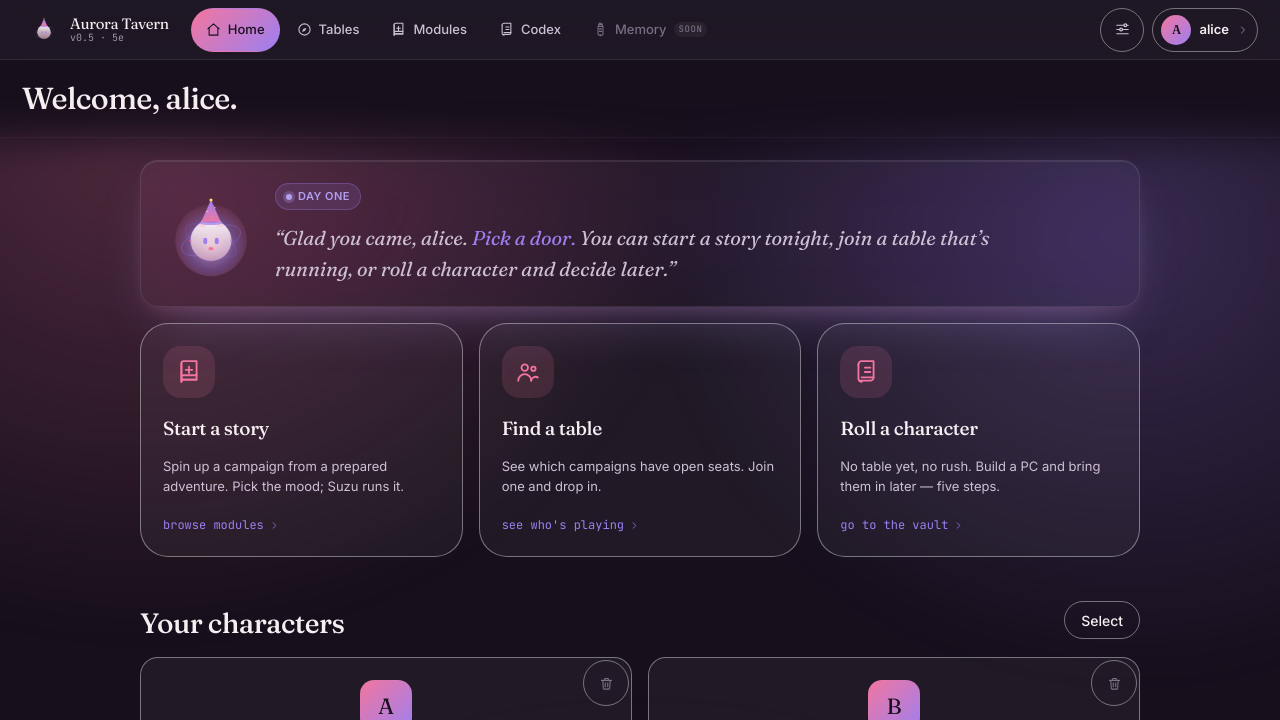
Bulk delete — characters grid, select mode › Undo partial failure surfaces a restored-X-of-Y message
The image size is (1280, 720).
Click the button "Select" at (1102, 620), box [1064,601,1140,639]
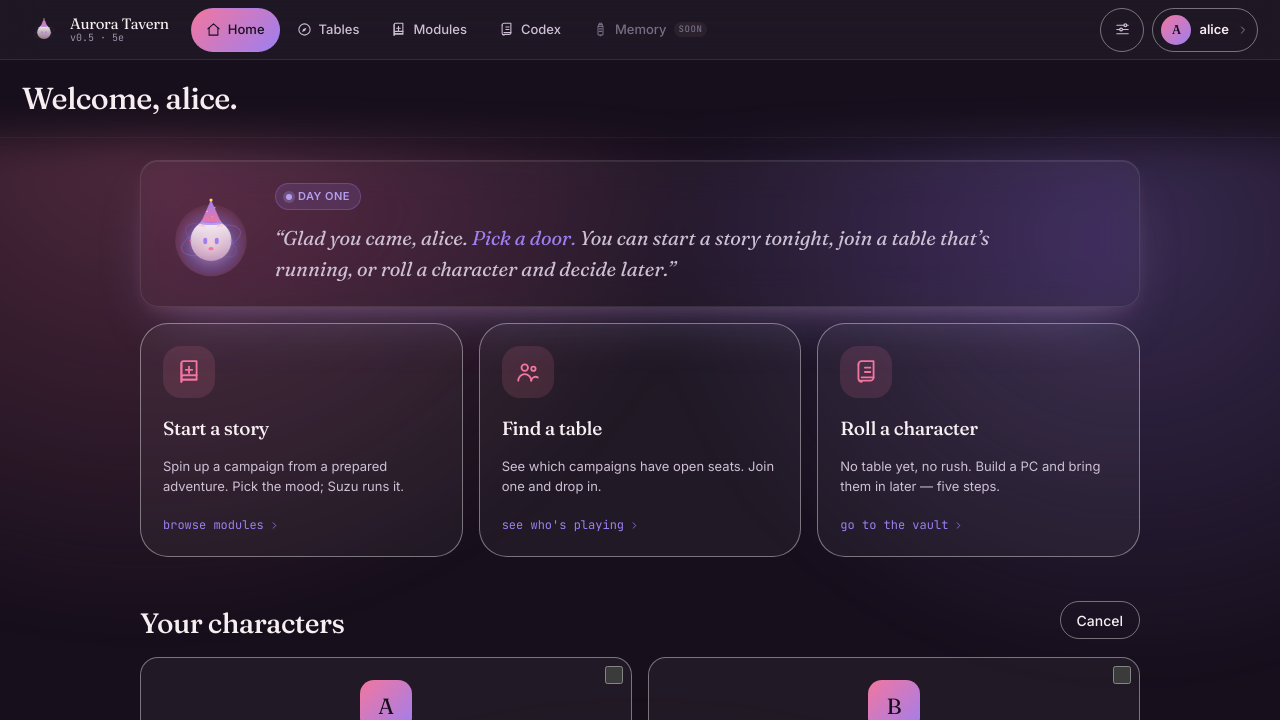
Click the checkbox named "select aria" at (614, 675), box [605,666,623,684]
(page scrolled)
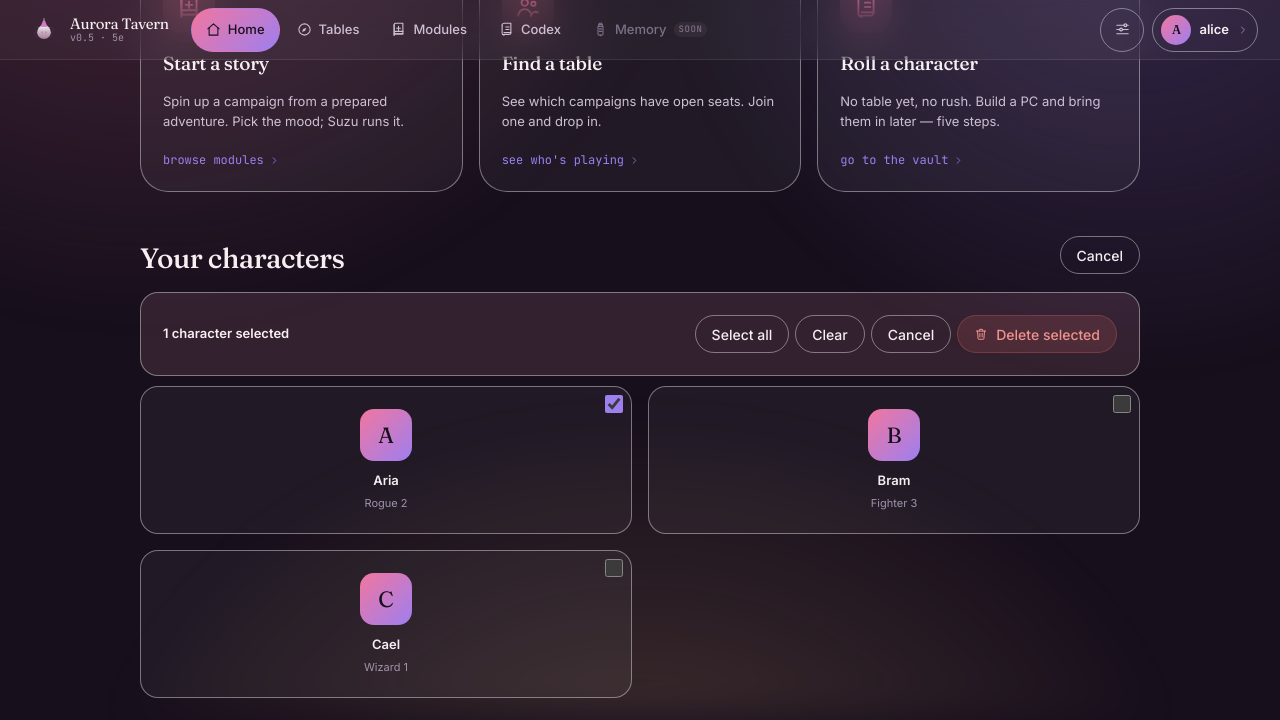
Click the checkbox named "select bram" at (1122, 404), box [1113,395,1131,413]
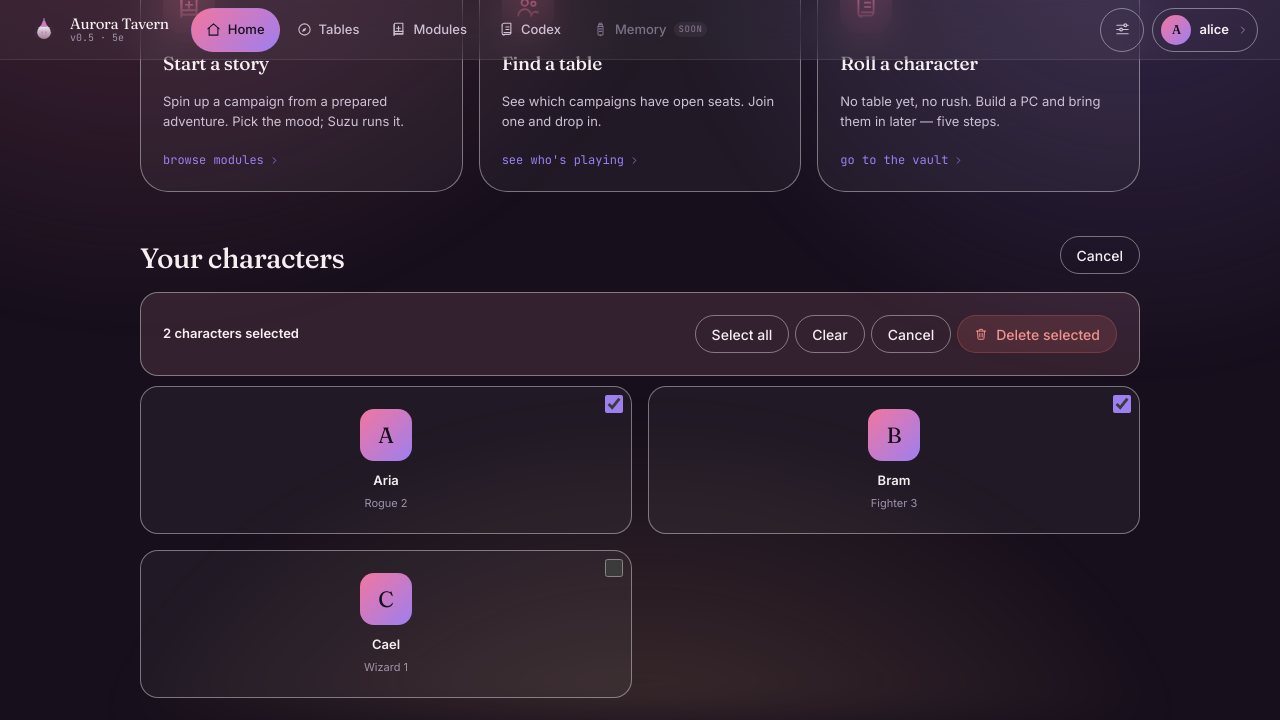
Click the button "Delete selected" at (1037, 334), box [957,315,1117,353]
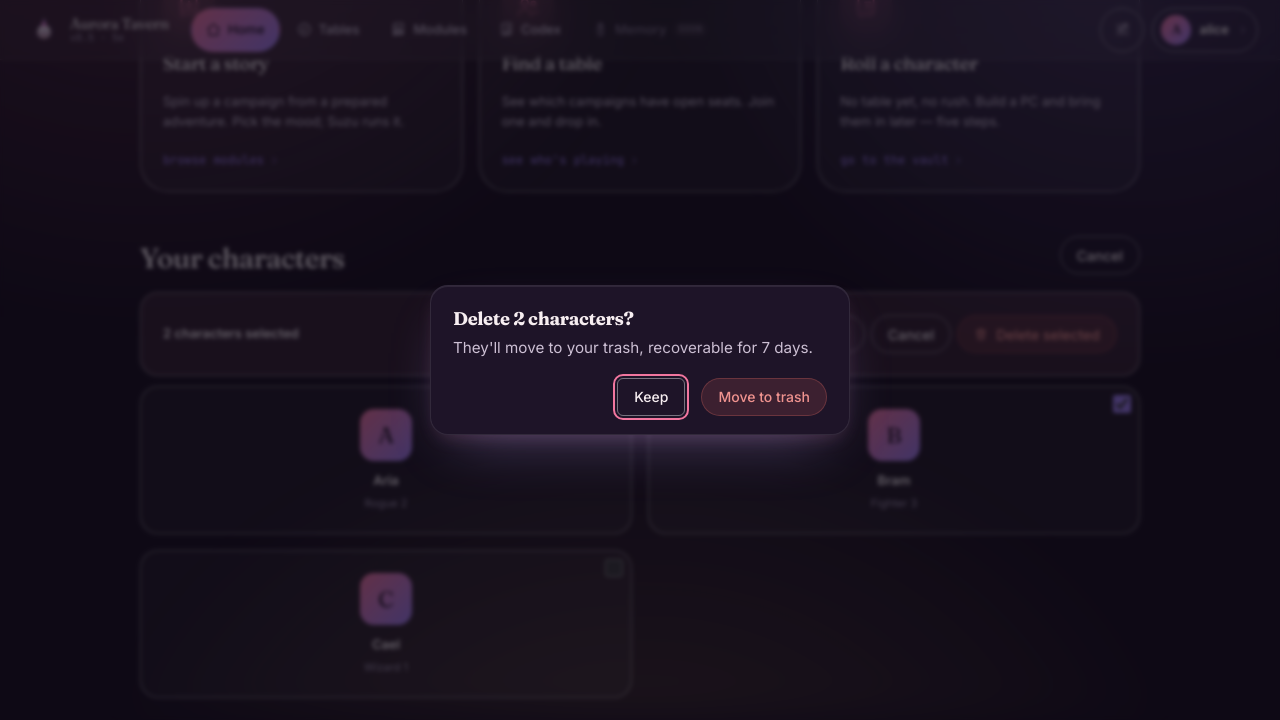
Check: the dialog is shown, box [430,285,850,435]
Click the button "Move to trash" at (764, 397), box [702,378,827,416]
(page scrolled)
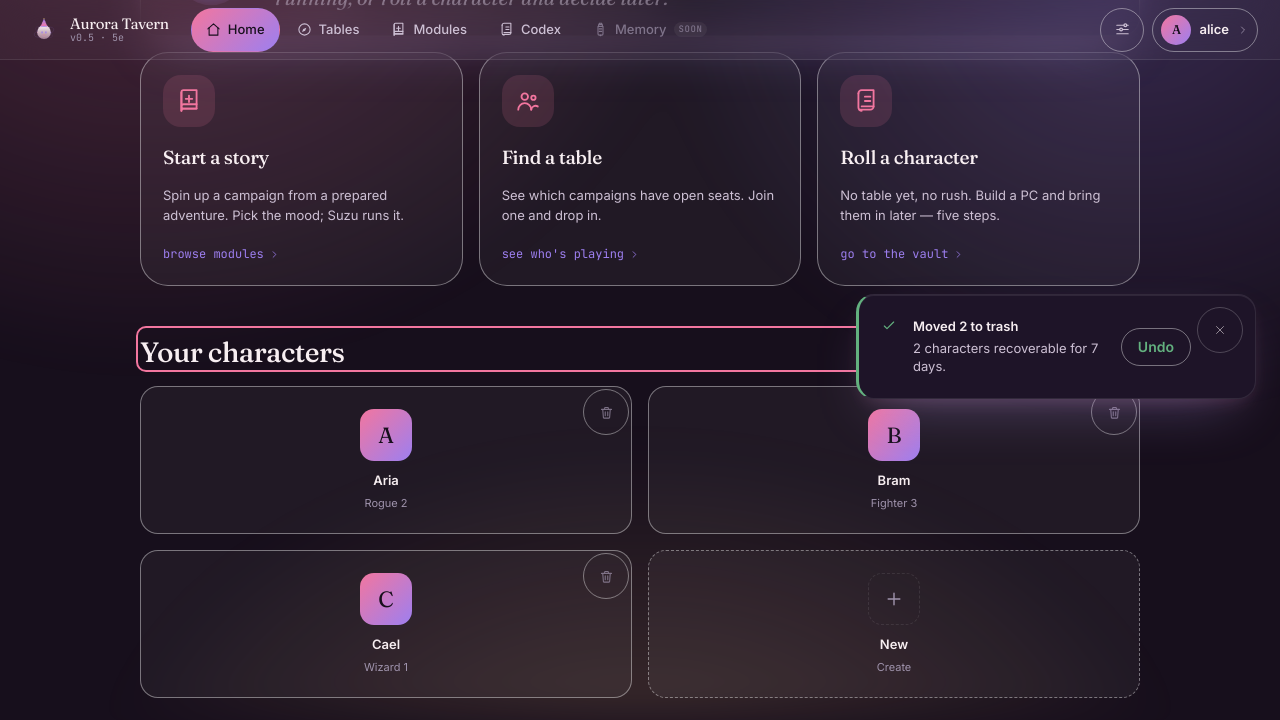
Click the button "Undo" at (1156, 347), box [1121,328,1191,366]
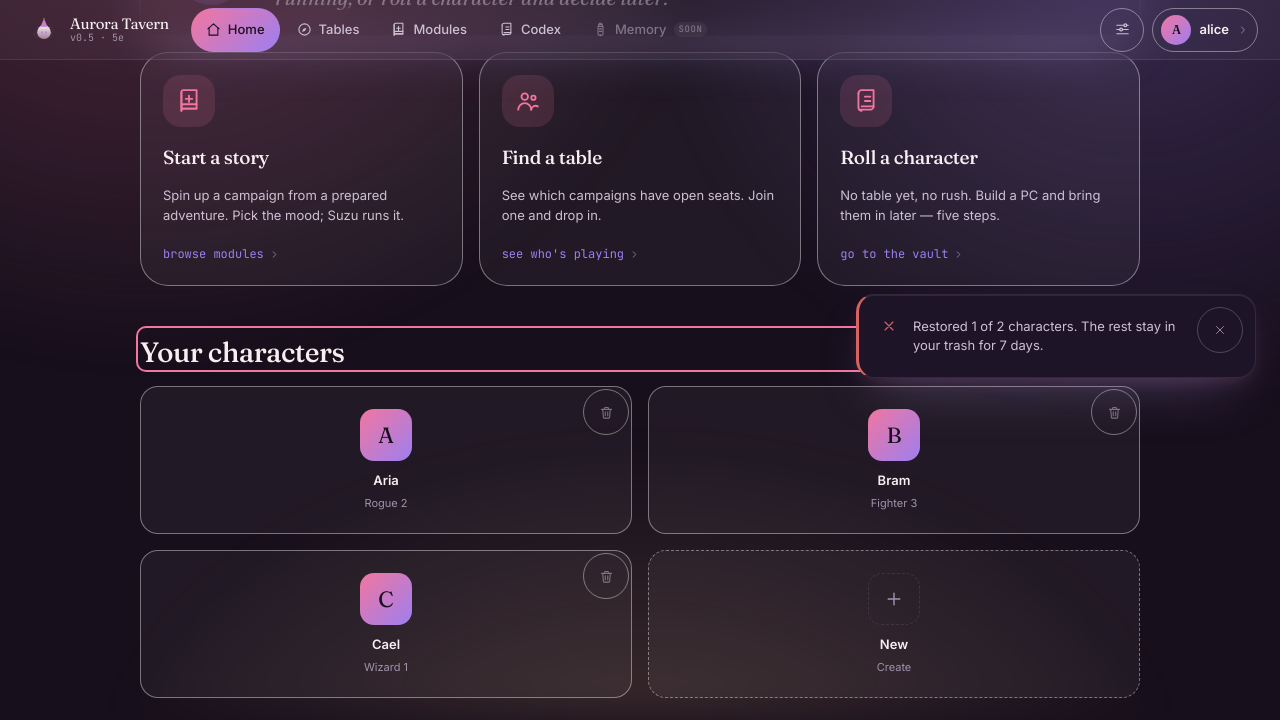
Check: the text "Restored 1 of 2 characters" is shown, box [913,318,1176,353]
